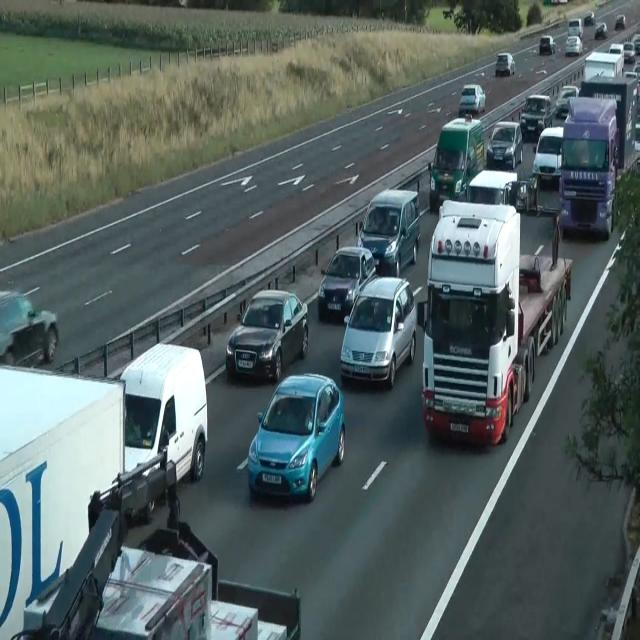bus: (247, 372, 345, 502), (225, 288, 309, 382), (317, 245, 378, 323), (0, 289, 59, 366), (458, 84, 486, 115), (556, 84, 580, 118), (495, 52, 515, 76), (564, 35, 582, 56), (606, 43, 624, 63), (568, 17, 583, 40), (539, 35, 556, 55), (623, 42, 635, 63), (594, 22, 607, 39), (583, 10, 595, 26), (614, 14, 626, 28), (550, 0, 567, 4)
jeep: (118, 340, 208, 488), (339, 274, 416, 388), (356, 186, 421, 276), (532, 125, 564, 187), (486, 119, 523, 170), (519, 92, 551, 137)
minibus: (0, 340, 208, 638), (417, 199, 573, 446), (558, 95, 619, 240), (579, 72, 639, 172), (428, 113, 484, 212), (466, 169, 520, 208), (583, 51, 624, 80)
